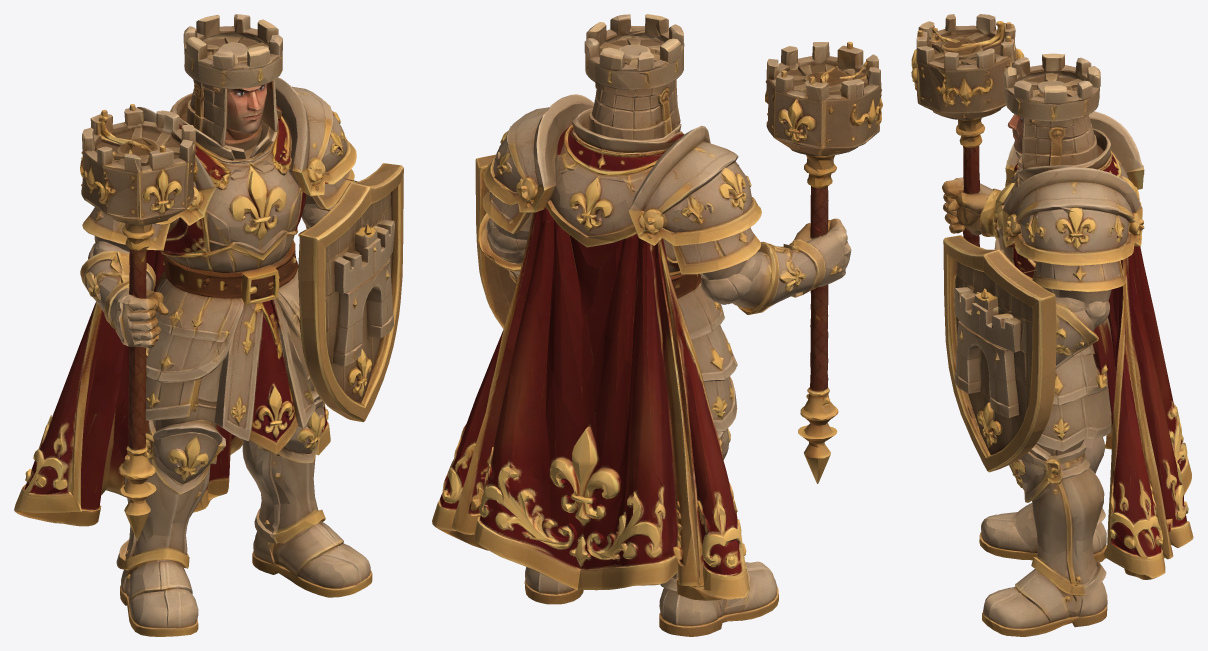
File: rook_white.glb
The picture shows the model from 3 angles, left to right: view 1: azimuth 30°, elevation 25°; view 2: azimuth 150°, elevation 25°; view 3: azimuth 270°, elevation 25°; orthographic projection. The views are drawn at different scales.
Visible parts, largest first — view 1: output_unwrapped; view 2: output_unwrapped; view 3: output_unwrapped.
Part boxes in pixels (x1,y1,x2,y2): output_unwrapped: [14, 14, 403, 636]; output_unwrapped: [432, 14, 882, 636]; output_unwrapped: [911, 14, 1193, 636].
Bounding box in the file's own units: 1.27 × 1.9 × 0.9429.
1 material, 1 textured.
